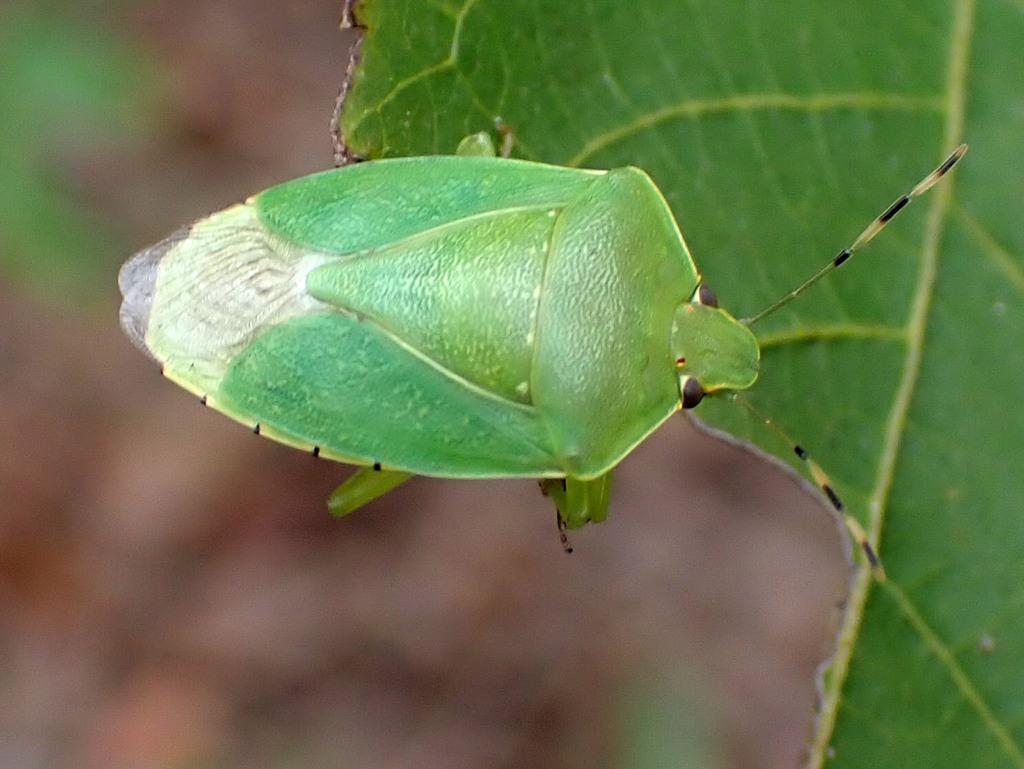stink_bugs: (41, 76, 1021, 666)
